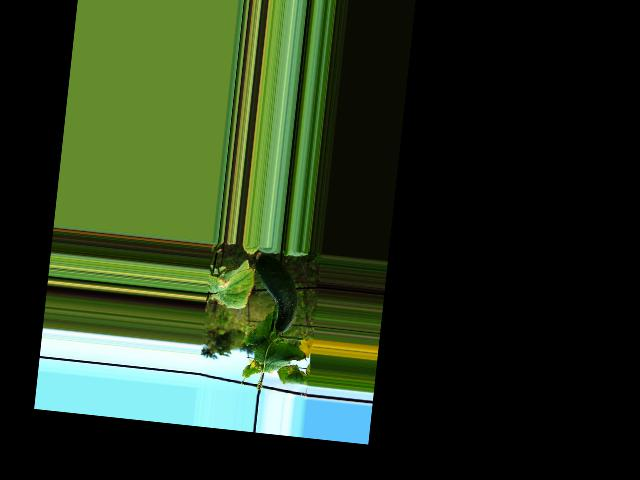cucumber: (247, 253, 302, 335)
